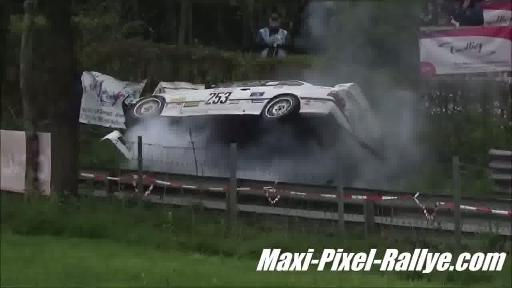Accident-fire-smoke: (116, 46, 422, 192)
